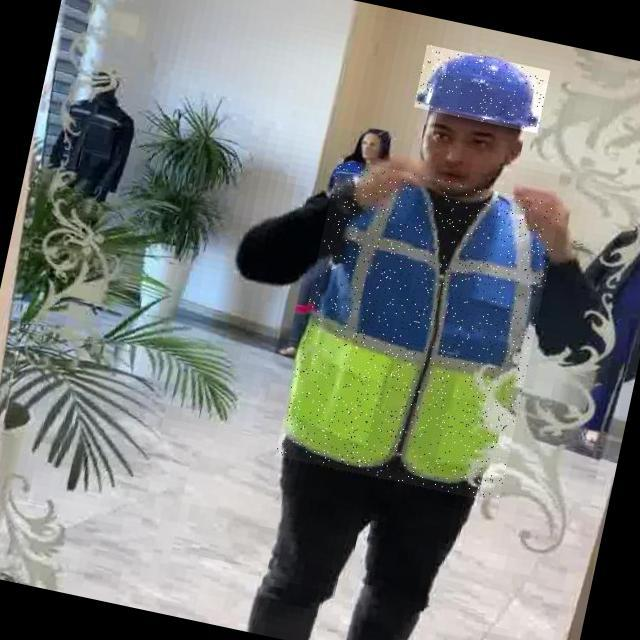Helmet: (413, 44, 550, 133)
Safety Vest: (275, 158, 562, 505)
